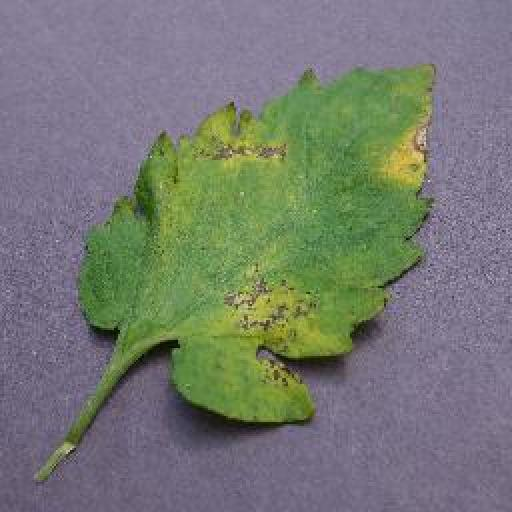Septoria: (82, 60, 433, 425)
